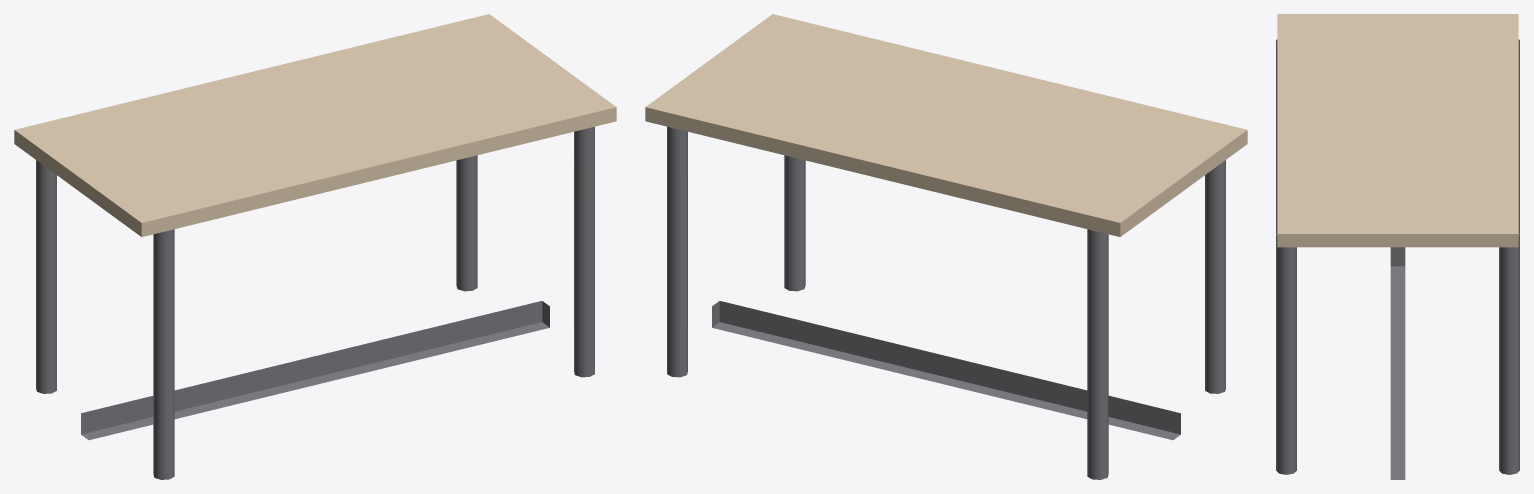
File: ikea-lisabo-desk.glb
3 views of the same model, side by side, from view 1: azimuth 30°, elevation 25°; view 2: azimuth 150°, elevation 25°; view 3: azimuth 270°, elevation 25° (orthographic). The views are drawn at different scales.
Size of the model in its own units: 1.4 by 0.74 by 0.656.
